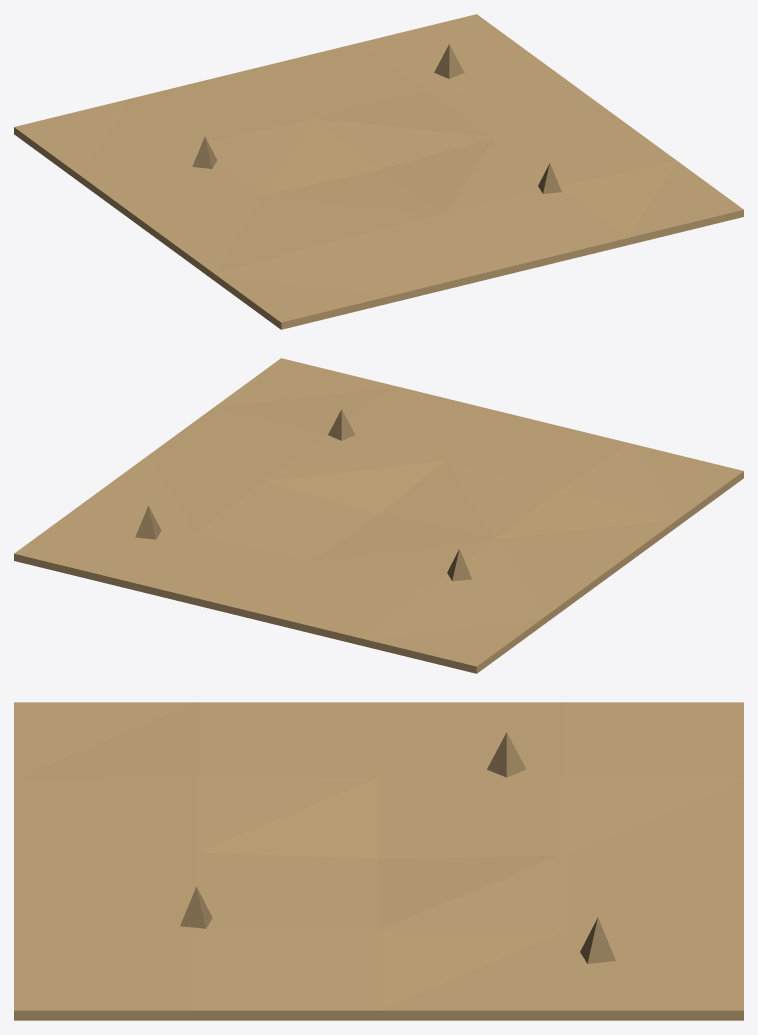
Rendered from lantai_tebing_v001.glb.
The picture shows the model from 3 angles, top to bottom: view 1: azimuth 30°, elevation 25°; view 2: azimuth 150°, elevation 25°; view 3: azimuth 270°, elevation 25°; orthographic projection. The views are drawn at different scales.
Parts seen in each view (by area): view 1: lantai_tebing; view 2: lantai_tebing; view 3: lantai_tebing.
Part boxes in pixels (x1=…): lantai_tebing: x1=14, y1=14, x2=743, y2=329; lantai_tebing: x1=14, y1=358, x2=743, y2=673; lantai_tebing: x1=14, y1=702, x2=743, y2=1020.
Size of the model in its own units: 4 by 0.2998 by 4.
